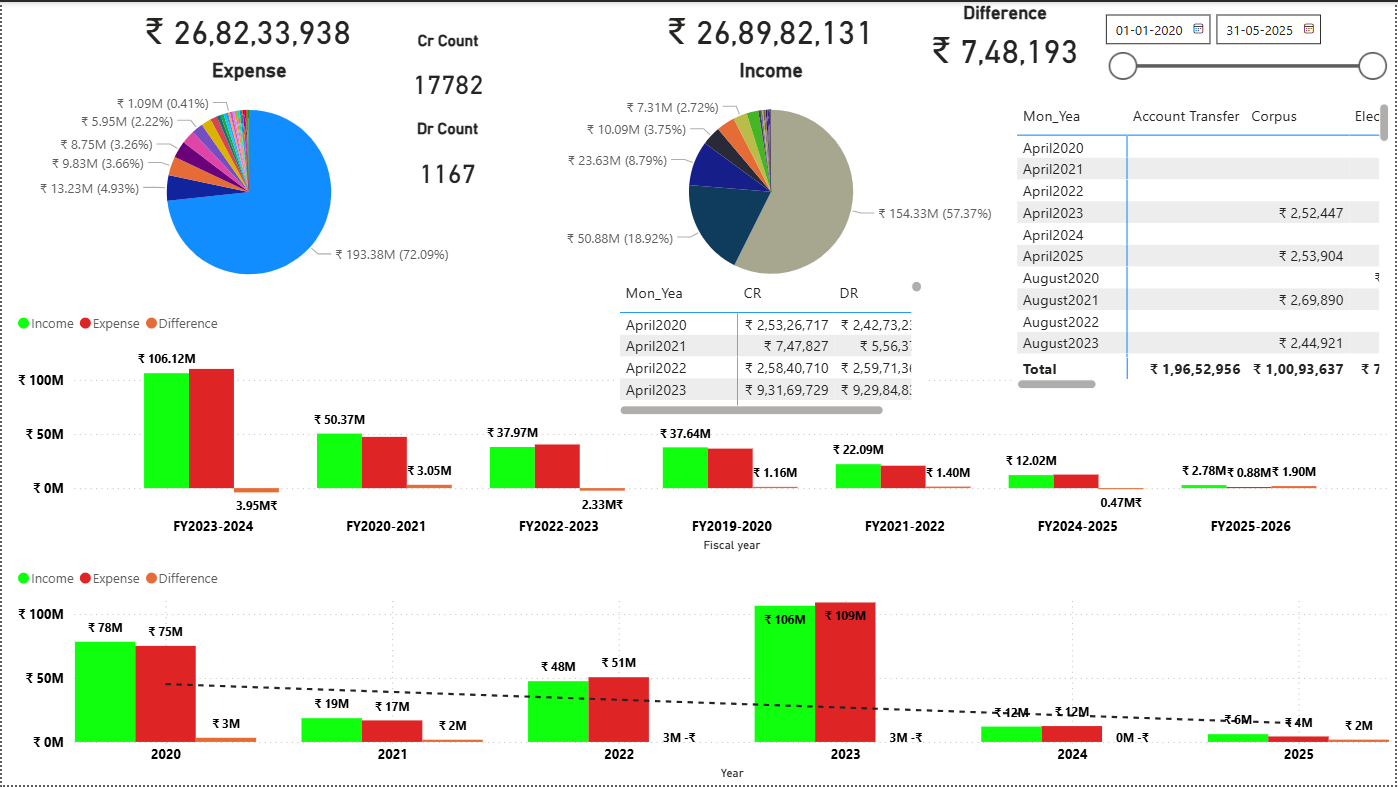

The page's visual inventory and layout, read from the dashboard file:
{"tool":"powerbi","page":{"name":"Page 1","canvas":[1280,720],"ordinal":0},"visuals":[{"type":"clusteredColumnChart","fields":{"Category":["Table4 (2).Year"],"Y":["Table4 (2).Income","Table4 (2).Expense","Table4 (2).Difference"]},"box":[9.6,510.5,1270.7,209.9],"z":0},{"type":"clusteredColumnChart","fields":{"Category":["Table4 (2).Fiscal year"],"Y":["Table4 (2).Income","Table4 (2).Expense","Table4 (2).Difference"]},"box":[9.6,275.8,1270.7,234.6],"z":1000},{"type":"pieChart","title":"Expense ","fields":{"Category":["Table4 (2).HEAD"],"Y":["Table4 (2).Expense"]},"box":[10.5,51.2,433.7,225.6],"z":2000},{"type":"pieChart","title":"Income ","fields":{"Y":["Table4 (2).Income"],"Category":["Table4 (2).HEAD"]},"box":[484.6,51.4,444.3,225],"z":3000},{"type":"card","fields":{"Values":["Table4 (2).Expense"]},"box":[68,0,316.6,51.4],"z":4000},{"type":"card","fields":{"Values":["Table4 (2).Income"]},"box":[548.5,0,316.6,51.4],"z":5000},{"type":"card","title":"Difference","fields":{"Values":["Table4 (2).Difference"]},"box":[841.5,0,159.7,68],"z":6000},{"type":"card","title":"Cr Count","fields":{"Values":["Table4 (2).Cr count"]},"box":[356.9,26.4,105.5,81.9],"z":7000},{"type":"card","title":"Dr Count","fields":{"Values":["Table4 (2).Cr count"]},"box":[362.8,108.1,93,82.6],"z":8000},{"type":"slicer","fields":{"Values":["Table4 (2).Value Date"]},"box":[1001.2,1.4,279.1,87.5],"z":9000},{"type":"pivotTable","fields":{"Rows":["Table4 (2).Mon_Yea"],"Columns":["Table4 (2).HEAD"],"Values":["Sum(Table4 (2).Transaction Amount(INR))"]},"box":[928.1,88.4,351.5,272.2],"z":10000},{"type":"pivotTable","fields":{"Columns":["Table4 (2).Cr/Dr"],"Rows":["Table4 (2).Mon_Yea"],"Values":["Sum(Table4 (2).Transaction Amount(INR))"]},"box":[562.8,245.3,287.2,133.7],"z":11000}]}

Visuals, with their boxes in screenshot pixels (x1, y1, x2, y2), scaled from the page's 1280x720 canvas onto the 1398x787 screenshot:
clusteredColumnChart - Table4 (2).Year x Table4 (2).Income: x1=10, y1=558, x2=1397, y2=786
clusteredColumnChart - Table4 (2).Fiscal year x Table4 (2).Income: x1=10, y1=301, x2=1397, y2=558
"Expense " pieChart: x1=11, y1=56, x2=485, y2=303
"Income " pieChart: x1=529, y1=56, x2=1015, y2=302
card - Table4 (2).Expense: x1=74, y1=0, x2=420, y2=56
card - Table4 (2).Income: x1=599, y1=0, x2=945, y2=56
"Difference" card: x1=919, y1=0, x2=1093, y2=74
"Cr Count" card: x1=390, y1=29, x2=505, y2=118
"Dr Count" card: x1=396, y1=118, x2=498, y2=208
slicer - Table4 (2).Value Date: x1=1093, y1=2, x2=1397, y2=97
pivotTable - Table4 (2).Mon_Yea x Table4 (2).HEAD: x1=1014, y1=97, x2=1397, y2=394
pivotTable - Table4 (2).Cr/Dr x Table4 (2).Mon_Yea: x1=615, y1=268, x2=928, y2=414
